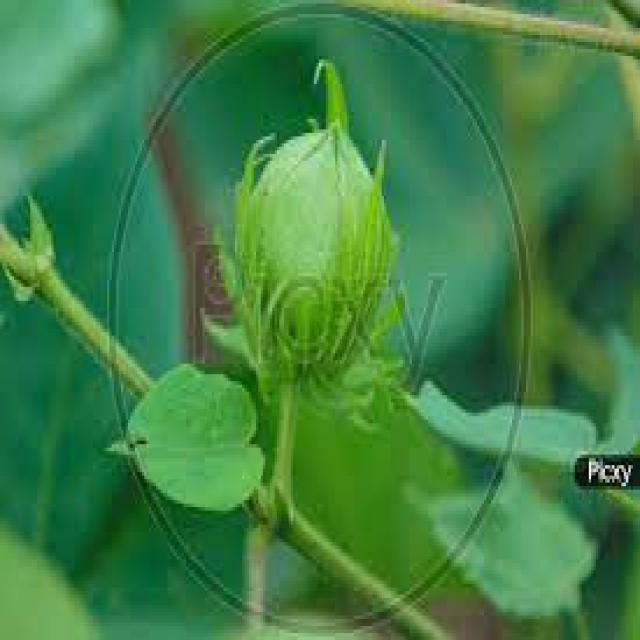Early Boll: (193, 120, 405, 397)
